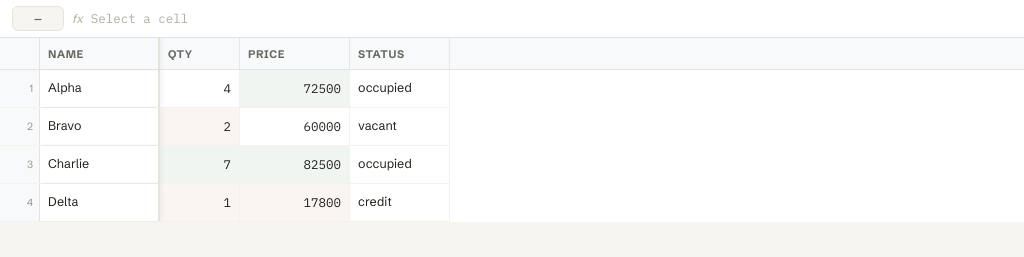
it: SpreadsheetEngine › context menu appears on right-click with correct options
The image size is (1024, 257).
Right-click the cell "Alpha".
right_click(100, 89)  # box [40, 70, 160, 107]
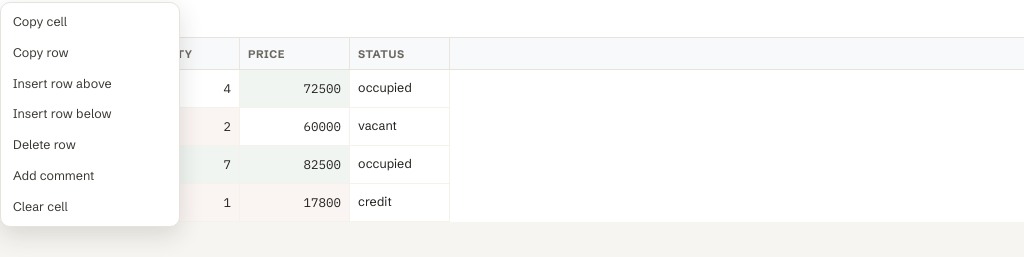
Now the menu item "Copy cell" is shown, box [13, 14, 67, 29]
Now the menu item "Copy row" is shown, box [13, 45, 69, 60]
Now the menu item "Insert row above" is shown, box [13, 76, 112, 90]
